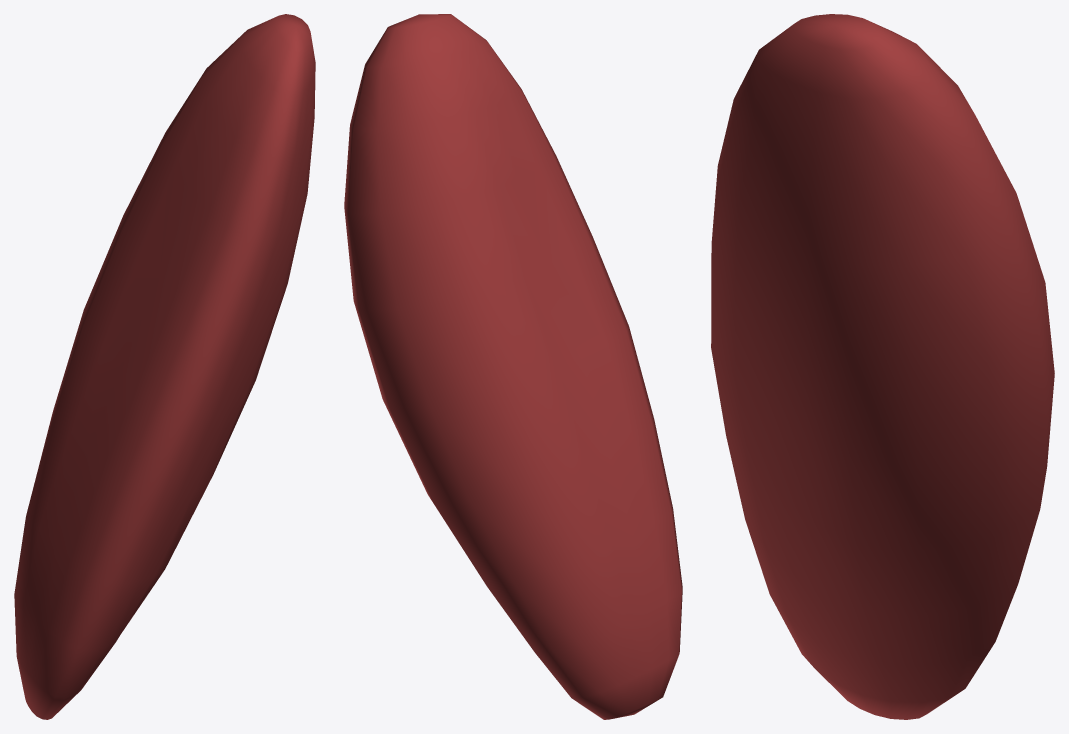
The model's file is subtendinous-bursa-of-teres-major-muscle-r.glb.
3 views of the same model, side by side, from view 1: azimuth 30°, elevation 25°; view 2: azimuth 150°, elevation 25°; view 3: azimuth 270°, elevation 25° (orthographic). The views are drawn at different scales.
Visible parts, largest first — view 1: Subtendinous bursa of teres major muscle.r; view 2: Subtendinous bursa of teres major muscle.r; view 3: Subtendinous bursa of teres major muscle.r.
Boxes of the visible parts, x1,y1,x2,y2 form: Subtendinous bursa of teres major muscle.r: [14, 14, 315, 719]; Subtendinous bursa of teres major muscle.r: [344, 14, 682, 719]; Subtendinous bursa of teres major muscle.r: [711, 14, 1054, 719].
Size of the model in its own units: 0.0124 by 0.0262 by 0.00978.
